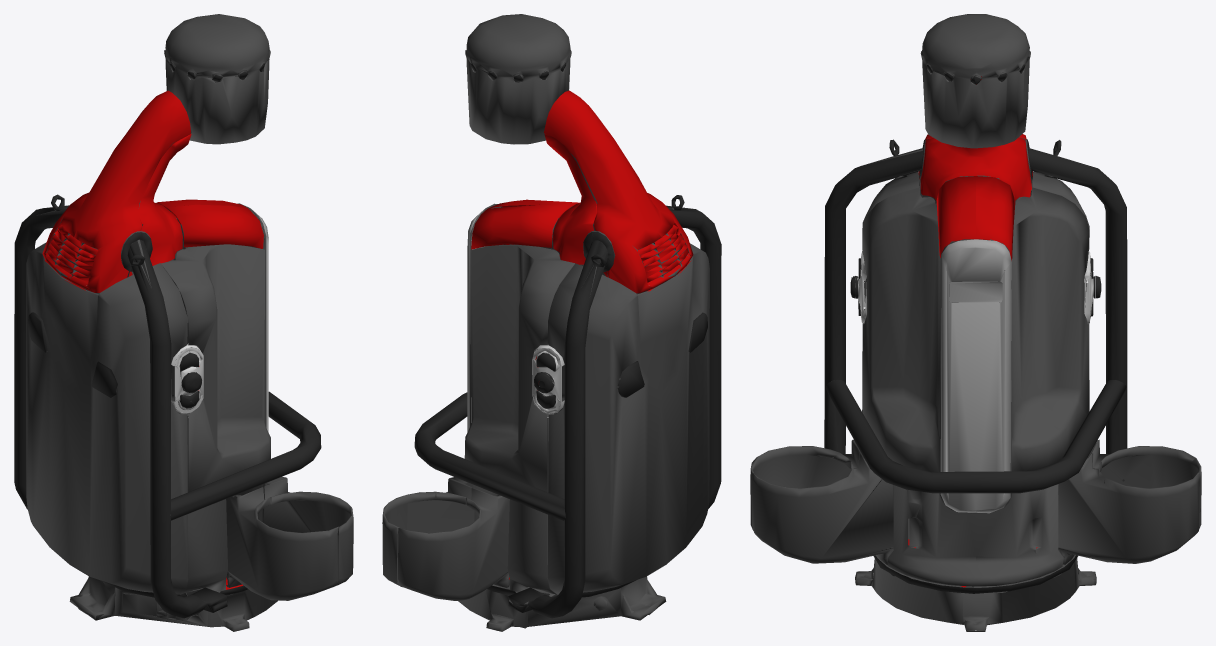
File: base_link_decimate.dae
The picture shows the model from 3 angles, left to right: view 1: azimuth 30°, elevation 25°; view 2: azimuth 150°, elevation 25°; view 3: azimuth 270°, elevation 25°; orthographic projection. The views are drawn at different scales.
Visible parts, largest first — view 1: base_link; view 2: base_link; view 3: base_link.
Boxes of the visible parts, bbox=[...] form: base_link: bbox=[14, 14, 353, 631]; base_link: bbox=[382, 14, 721, 631]; base_link: bbox=[750, 14, 1201, 631].
Bounding box in the file's own units: 0.4196 × 0.6719 × 0.9372.
